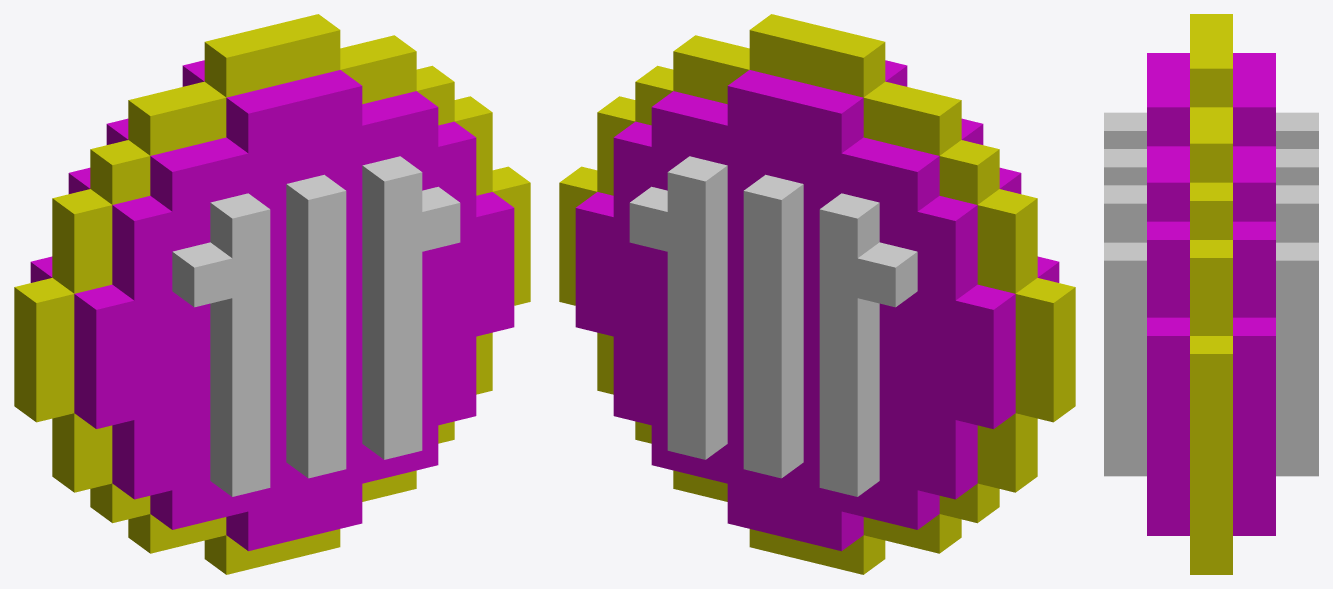
The model's file is powerup_tripleshot.gltf.
3 renders of one model, left to right at view 1: azimuth 30°, elevation 25°; view 2: azimuth 150°, elevation 25°; view 3: azimuth 270°, elevation 25°, orthographic. The views are drawn at different scales.
Bounding box in the file's own units: 13 × 13 × 5.
